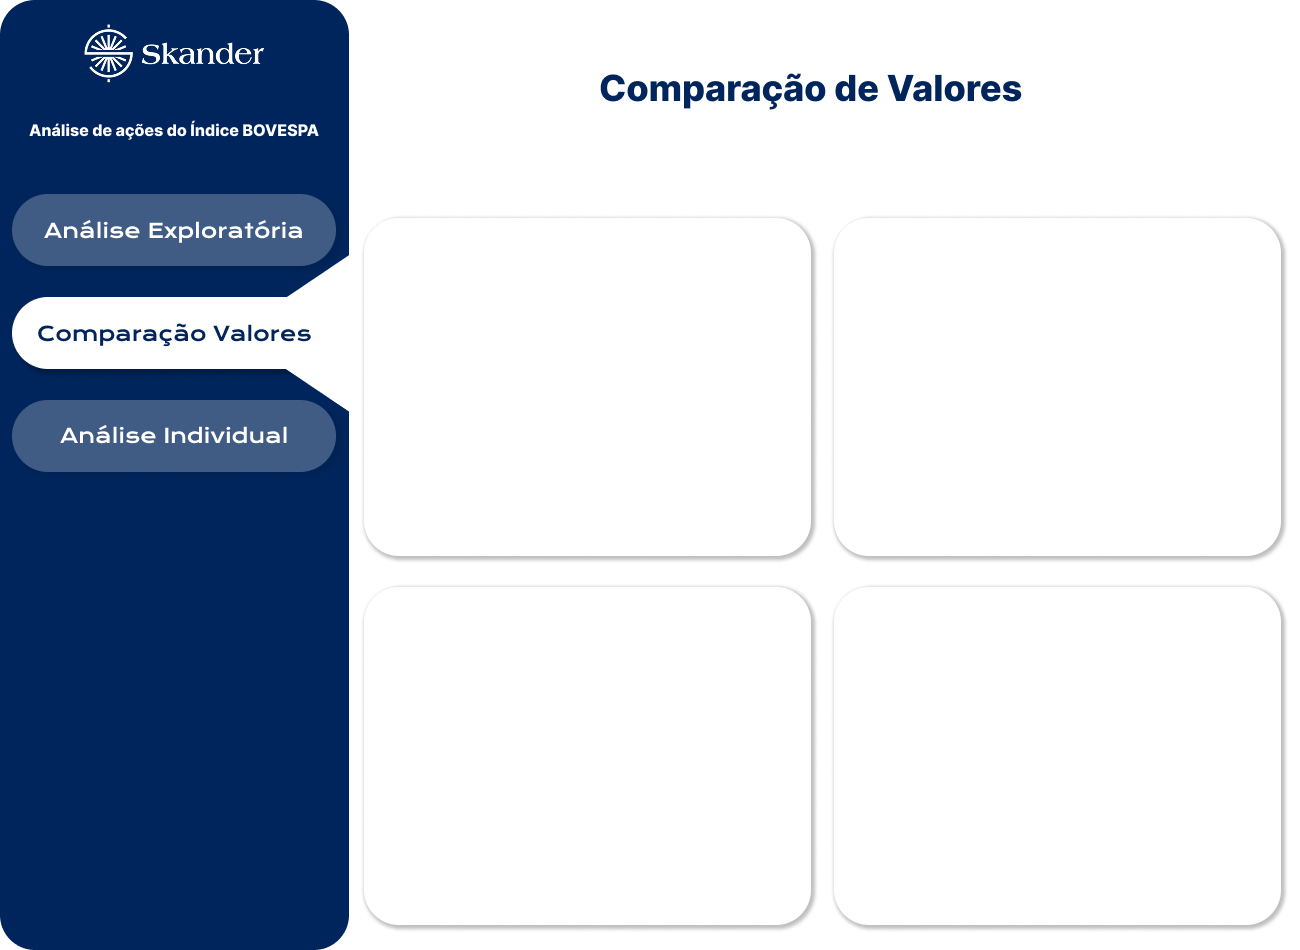

Layout of this report page (visuals, bound fields, positions):
{"tool":"tableau","page":{"name":"Comparação de Valores","canvas":[1300,950],"ordinal":2},"visuals":[{"type":"image","param":"C:/Users/caiop/DIO/stock-analysis-bovespa/assets/layout/Comparação Valores.png","box":[8,8,1284,934]},{"type":"filter","title":"ROE por Empresa","param":"[federated.1ubkfle0kqqt5a1140fbm0lzun5t].[none:PL:qk]","box":[1092,80,160,65]},{"type":"filter","title":"ROE por Empresa","param":"[federated.1ubkfle0kqqt5a1140fbm0lzun5t].[none:Setor:nk]","box":[378,108,378,52]},{"type":"filter","title":"ROE por Empresa","param":"[federated.1ubkfle0kqqt5a1140fbm0lzun5t].[none:ROE:qk]","box":[763,148,160,65]},{"type":"filter","title":"ROE por Empresa","param":"[federated.1ubkfle0kqqt5a1140fbm0lzun5t].[none:Marg_Liquida:qk]","box":[927,148,160,65]},{"type":"filter","title":"ROE por Empresa","param":"[federated.1ubkfle0kqqt5a1140fbm0lzun5t].[none:Cres_Rec_5a:qk]","box":[1095,148,160,65]},{"type":"filter","title":"ROE por Empresa","param":"[federated.1ubkfle0kqqt5a1140fbm0lzun5t].[none:Subsetor:nk]","box":[378,163,379,63]},{"type":"dashboard-object","box":[32,201,305,69]},{"type":"worksheet","title":"ROE por Empresa","mark":"Automatic","rows":["Ticker"],"cols":["ROE"],"box":[384,229,409,316]},{"type":"worksheet","title":"Margem Líquida por Empresa","mark":"Automatic","rows":["Ticker"],"cols":["Marg_Liquida"],"box":[840,232,413,314]},{"type":"dashboard-object","box":[33,402,304,69]},{"type":"worksheet","title":"CAGR por Empresa","mark":"Automatic","rows":["Ticker"],"cols":["Cres_Rec_5a"],"box":[383,590,412,313]},{"type":"worksheet","title":"P/L por Empresa","mark":"Automatic","rows":["Ticker"],"cols":["PL"],"box":[841,594,412,311]}]}

Visuals, with their boxes in screenshot pixels (x1, y1, x2, y2), scaled from the page's 1300x950 canvas onto the 1300x950 screenshot:
image: [8,8,1292,942]
"ROE por Empresa" filter: [1092,80,1252,145]
"ROE por Empresa" filter: [378,108,756,160]
"ROE por Empresa" filter: [763,148,923,213]
"ROE por Empresa" filter: [927,148,1087,213]
"ROE por Empresa" filter: [1095,148,1255,213]
"ROE por Empresa" filter: [378,163,757,226]
dashboard-object: [32,201,337,270]
"ROE por Empresa" worksheet: [384,229,793,545]
"Margem Líquida por Empresa" worksheet: [840,232,1253,546]
dashboard-object: [33,402,337,471]
"CAGR por Empresa" worksheet: [383,590,795,903]
"P/L por Empresa" worksheet: [841,594,1253,905]
